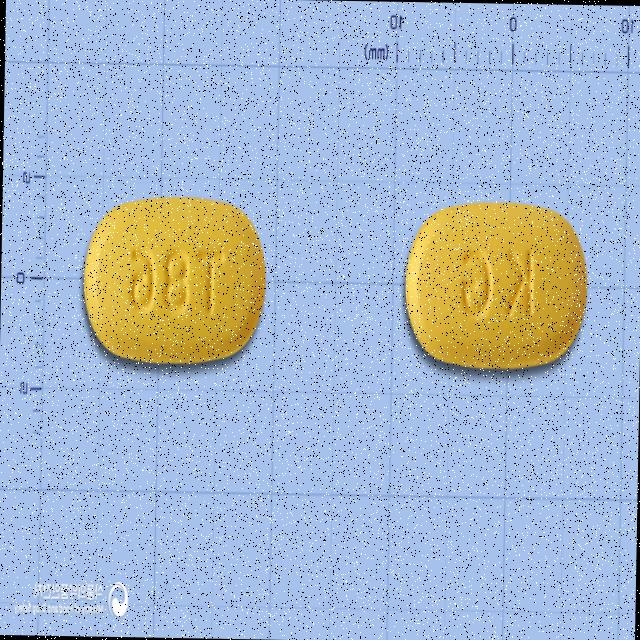Clarin: (79, 189, 268, 373), (399, 196, 591, 377)
